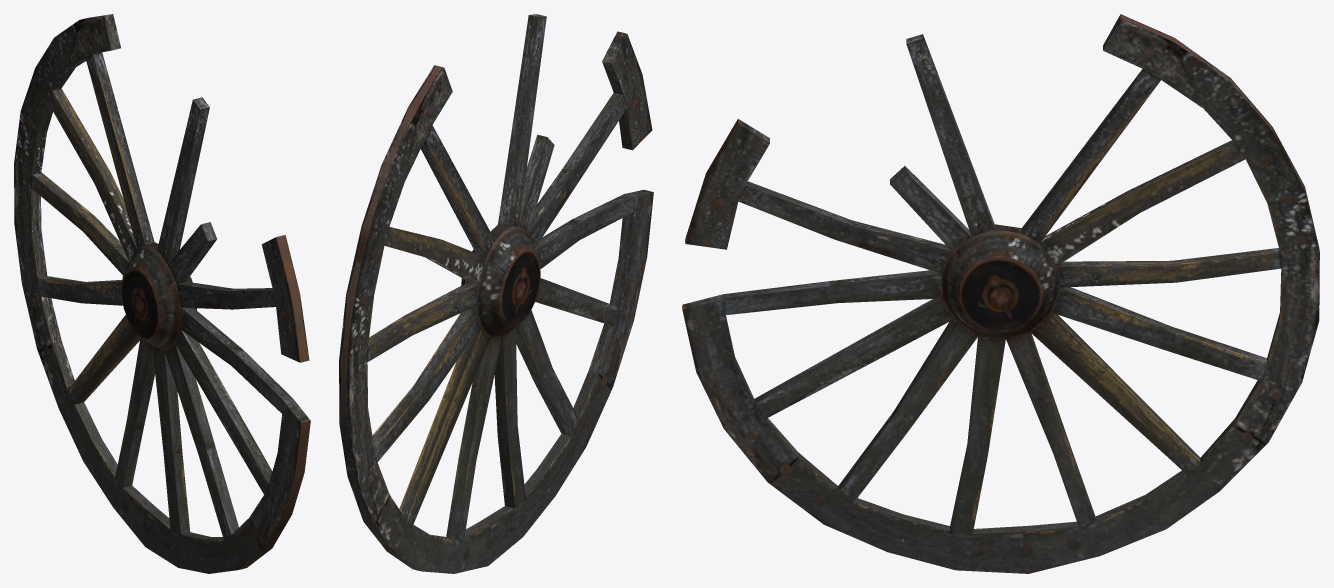
Rendered from Wheeldamaged_LOD02.fbx.
3 views of the same model, side by side, from view 1: azimuth 30°, elevation 25°; view 2: azimuth 150°, elevation 25°; view 3: azimuth 270°, elevation 25° (orthographic). The views are drawn at different scales.
Visible parts, largest first — view 1: Mesh Object; view 2: Mesh Object; view 3: Mesh Object.
Boxes of the visible parts, x1,y1,x2,y2 form: Mesh Object: (14,14,310,573); Mesh Object: (339,14,653,573); Mesh Object: (682,14,1319,573).
Size of the model in its own units: 0.077 by 0.953 by 0.9921.
